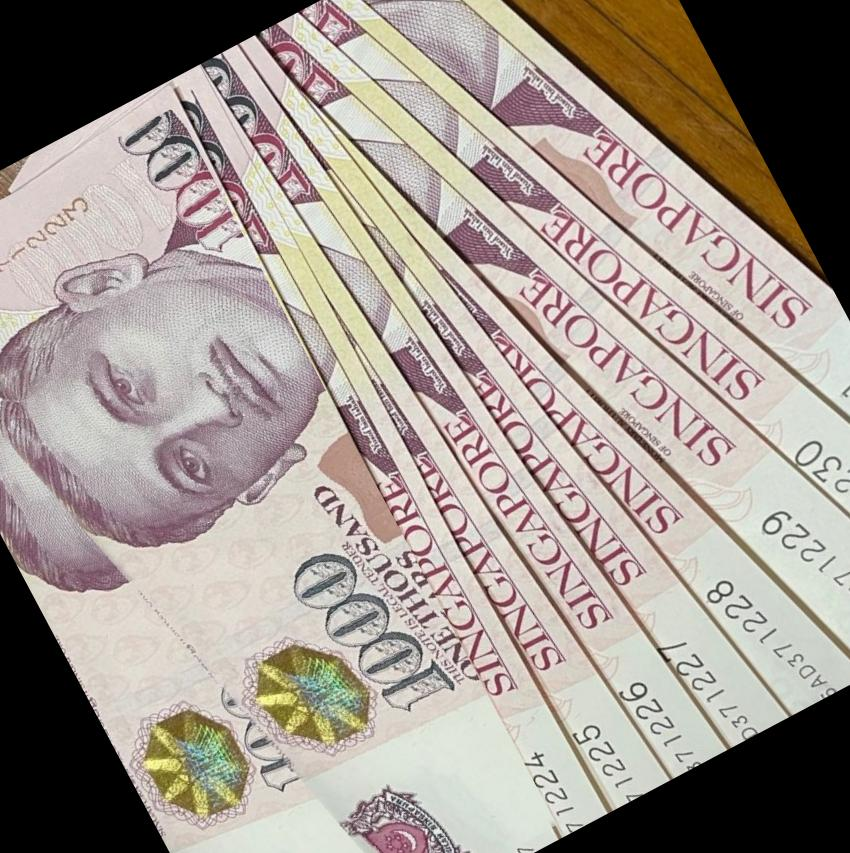1000SingaporeDollar: (0, 106, 563, 853)
